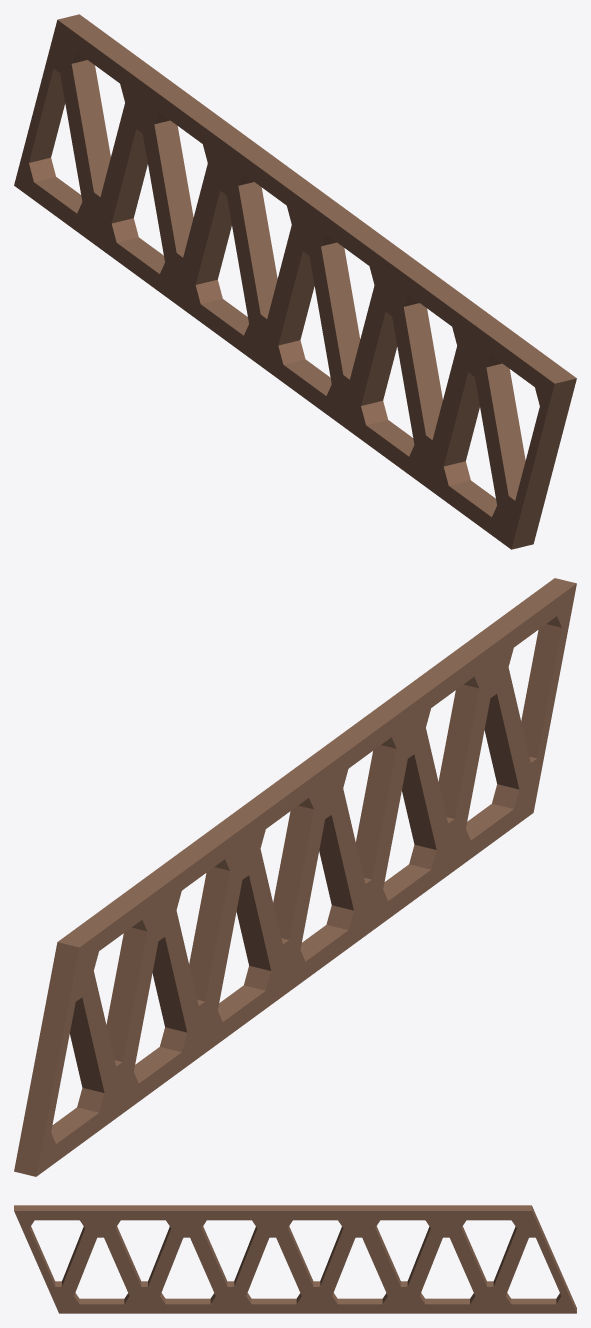
Rendered from quaternius-ultimate-space-metal-support-transformed.glb.
The picture shows the model from 3 angles, top to bottom: view 1: azimuth 30°, elevation 25°; view 2: azimuth 150°, elevation 25°; view 3: azimuth 270°, elevation 25°; orthographic projection. The views are drawn at different scales.
Parts seen in each view (by area): view 1: MetalSupport; view 2: MetalSupport; view 3: MetalSupport.
Part boxes in pixels (box(x1,y1,x2,y2)): MetalSupport: box(14, 14, 576, 549); MetalSupport: box(14, 578, 576, 1176); MetalSupport: box(14, 1205, 576, 1313).
Bounding box in the file's own units: 0.141 × 1.2 × 5.95.
Materials: 1 (1 with a texture image).
